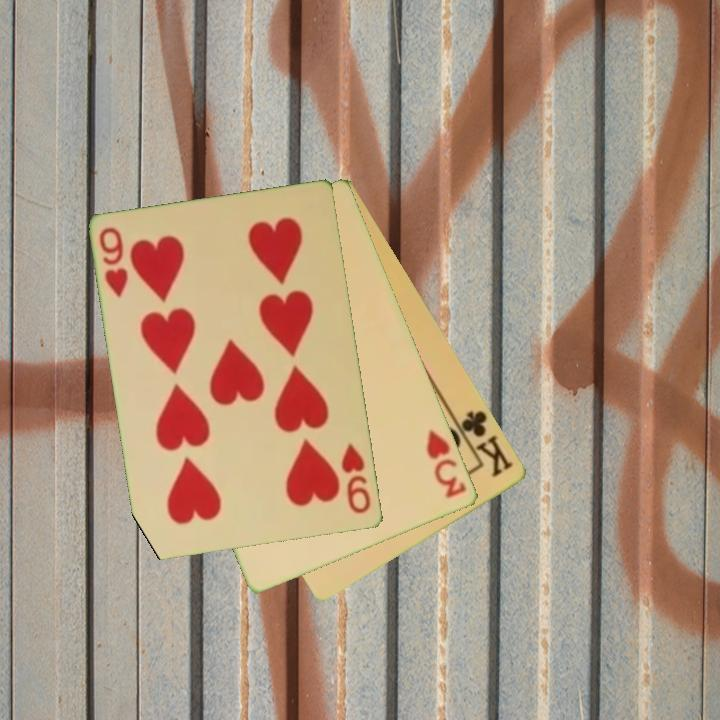3h: (423, 426, 470, 502)
9h: (338, 440, 374, 517), (96, 224, 132, 301)
Kc: (450, 406, 517, 480)
